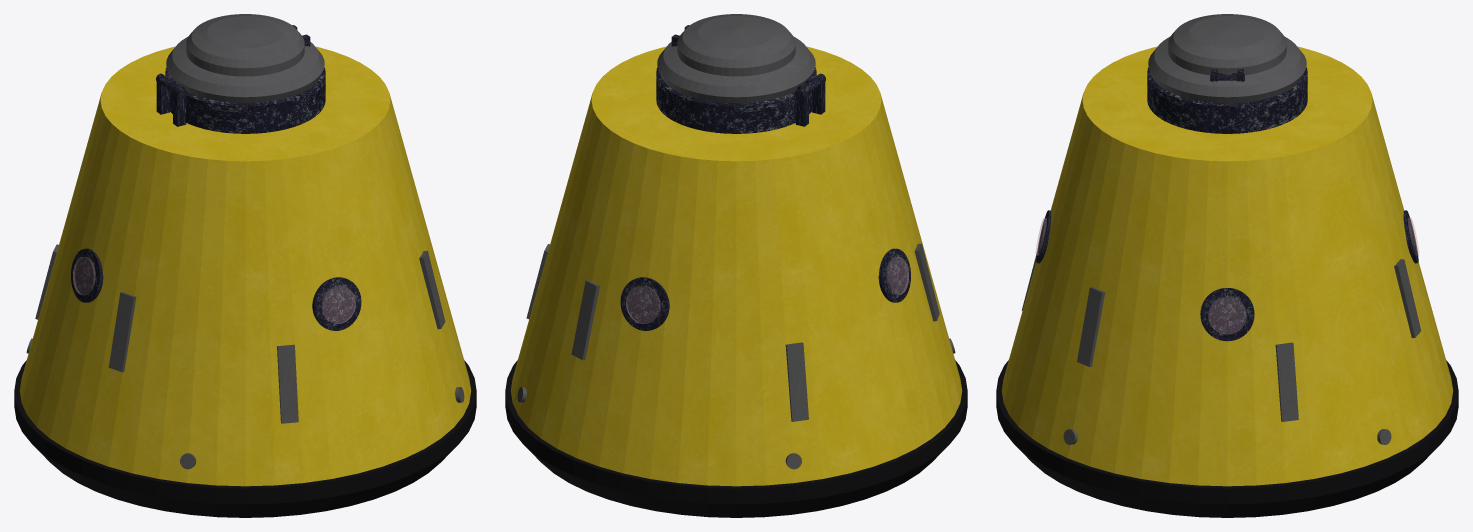
The model's file is Astronomy_Return_capsule__0009.glb.
3 renders of one model, left to right at view 1: azimuth 30°, elevation 25°; view 2: azimuth 150°, elevation 25°; view 3: azimuth 270°, elevation 25°, orthographic.
Parts seen in each view (by area): view 1: capsule::bell_body, capsule::heat_shield, nose_cover::nose_shell, hatch::lid_shell, capsule::hatch_collar, capsule::porthole_rim_3, capsule::docking_ring, capsule::scorch_streak_4, capsule::porthole_rim_2, capsule::scorch_streak_3, capsule::porthole_glass_3, capsule::scorch_streak_5 (+1 smaller); view 2: capsule::bell_body, capsule::heat_shield, nose_cover::nose_shell, hatch::lid_shell, capsule::hatch_collar, capsule::porthole_rim_1, capsule::docking_ring, capsule::scorch_streak_2, capsule::porthole_rim_2, capsule::scorch_streak_1, capsule::porthole_glass_1, capsule::scorch_streak_3 (+1 smaller); view 3: capsule::bell_body, capsule::heat_shield, nose_cover::nose_shell, hatch::lid_shell, capsule::hatch_collar, capsule::porthole_rim_0, capsule::docking_ring, capsule::scorch_streak_0, capsule::scorch_streak_5, capsule::porthole_glass_0, capsule::scorch_streak_1.
Boxes of the visible parts, x1,y1,x2,y2 form: capsule::bell_body: [19, 46, 471, 486]; capsule::heat_shield: [14, 360, 476, 517]; nose_cover::nose_shell: [186, 14, 304, 76]; hatch::lid_shell: [166, 37, 324, 103]; capsule::hatch_collar: [170, 80, 325, 133]; capsule::porthole_rim_3: [312, 277, 361, 330]; capsule::docking_ring: [165, 67, 325, 112]; capsule::scorch_streak_4: [277, 344, 298, 423]; capsule::porthole_rim_2: [71, 248, 103, 302]; capsule::scorch_streak_3: [108, 292, 136, 372]; capsule::porthole_glass_3: [321, 286, 355, 323]; capsule::scorch_streak_5: [419, 250, 445, 329]; capsule::bell_body: [510, 46, 962, 486]; capsule::heat_shield: [505, 360, 967, 517]; nose_cover::nose_shell: [677, 14, 795, 76]; hatch::lid_shell: [657, 37, 815, 103]; capsule::hatch_collar: [656, 80, 811, 133]; capsule::porthole_rim_1: [620, 277, 669, 330]; capsule::docking_ring: [656, 67, 816, 112]; capsule::scorch_streak_2: [785, 342, 808, 421]; capsule::porthole_rim_2: [878, 248, 910, 302]; capsule::scorch_streak_1: [571, 280, 599, 360]; capsule::porthole_glass_1: [626, 286, 660, 323]; capsule::scorch_streak_3: [914, 243, 939, 321]; capsule::bell_body: [1001, 46, 1453, 486]; capsule::heat_shield: [996, 360, 1458, 517]; nose_cover::nose_shell: [1168, 14, 1286, 75]; hatch::lid_shell: [1148, 37, 1306, 103]; capsule::hatch_collar: [1147, 79, 1307, 133]; capsule::porthole_rim_0: [1200, 288, 1254, 341]; capsule::docking_ring: [1147, 67, 1307, 112]; capsule::scorch_streak_0: [1275, 342, 1298, 421]; capsule::scorch_streak_5: [1077, 287, 1105, 366]; capsule::porthole_glass_0: [1208, 296, 1246, 334]; capsule::scorch_streak_1: [1394, 259, 1421, 338].
Bounding box in the file's own units: 2.46 × 2.48 × 2.46.
Materials: 8 (6 with a texture image).
